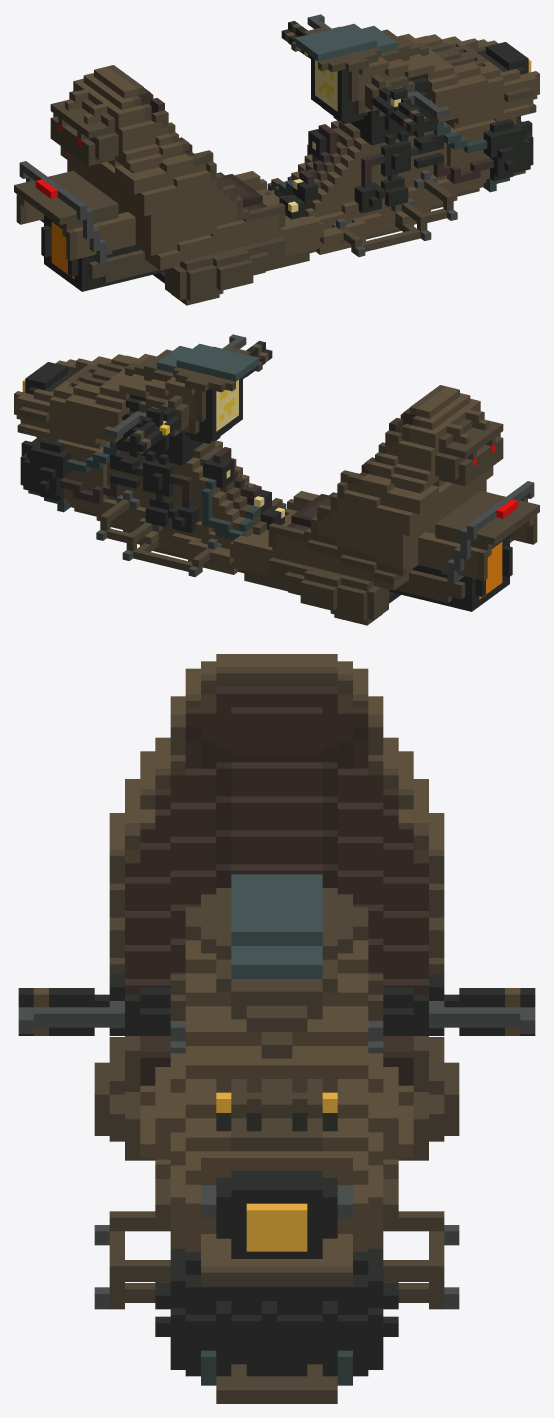
File: Scooter-0-Scooter.obj
3 views of the same model, one above another, from view 1: azimuth 30°, elevation 25°; view 2: azimuth 150°, elevation 25°; view 3: azimuth 270°, elevation 25° (orthographic). The views are drawn at different scales.
Parts seen in each view (by area): view 1: Scooter; view 2: Scooter; view 3: Scooter.
Boxes of the visible parts, x1,y1,x2,y2 form: Scooter: (14,14,539,305); Scooter: (14,334,539,625); Scooter: (18,654,535,1403).
Bounding box in the file's own units: 7.4 × 3.1 × 3.4.
Materials: 1 (1 with a texture image).
